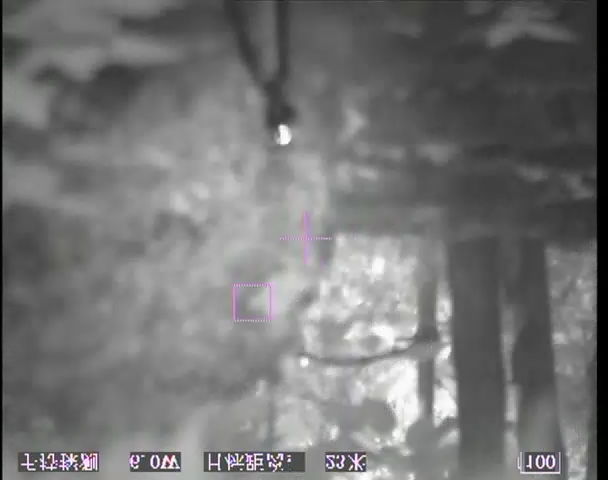my: (272, 123, 295, 147)
